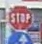stop: (7, 4, 33, 30)
